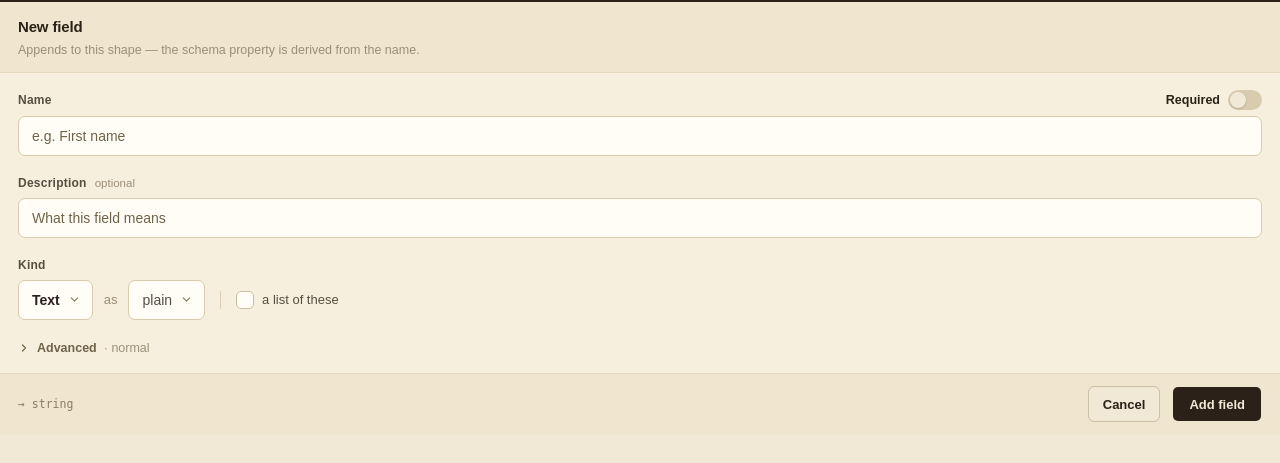
Test: derives the property name while typing
Type "First name" into the field labelled "Name" at (640, 136), box [18,116,1262,156]
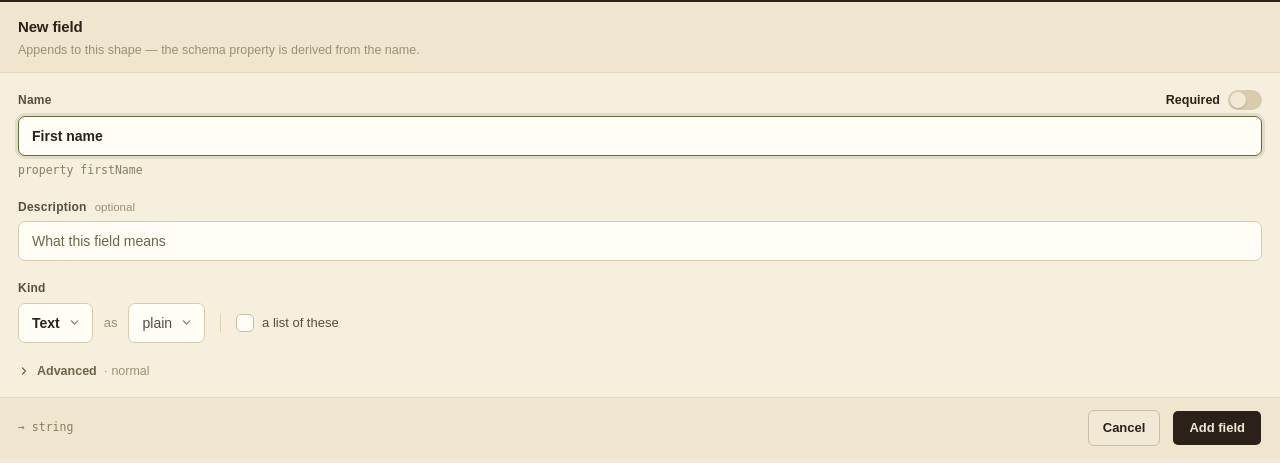
Result: the text "property firstName" is shown at [18,163,143,177]
